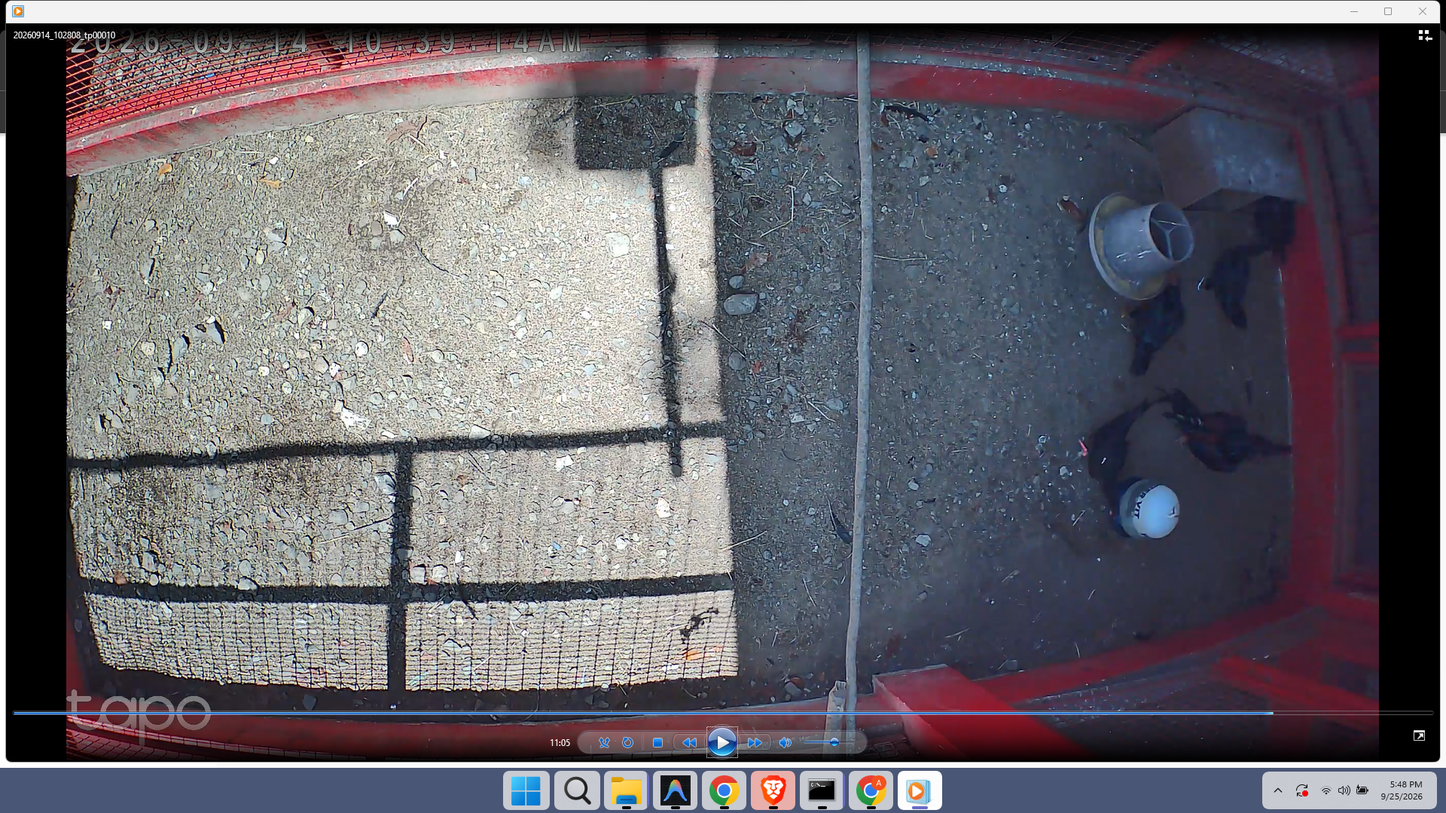Chicken: (1074, 397, 1152, 518), (1122, 269, 1187, 377), (1197, 242, 1273, 330), (1254, 198, 1300, 264)
Drinker: (1107, 473, 1180, 541)
Feeder: (1087, 187, 1195, 301)
Rooster: (1159, 386, 1294, 478)
